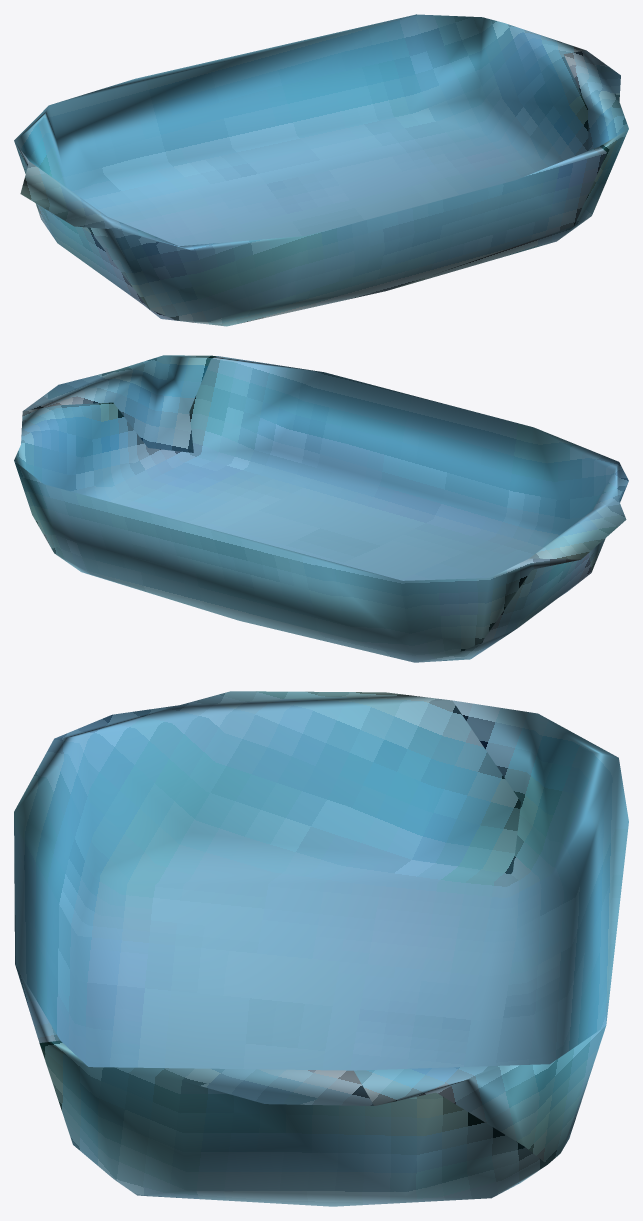
Rendered from Corningware_CW_by_Corningware_3qt_Oblong_Casserole_Dish_Blue-low.glb.
The picture shows the model from 3 angles, top to bottom: view 1: azimuth 30°, elevation 25°; view 2: azimuth 150°, elevation 25°; view 3: azimuth 270°, elevation 25°; orthographic projection. The views are drawn at different scales.
Parts seen in each view (by area): view 1: Corningware_CW_by_Corningware_3qt_Oblong_Casserole_Dish_Blue; view 2: Corningware_CW_by_Corningware_3qt_Oblong_Casserole_Dish_Blue; view 3: Corningware_CW_by_Corningware_3qt_Oblong_Casserole_Dish_Blue.
Boxes of the visible parts, bbox=[...] form: Corningware_CW_by_Corningware_3qt_Oblong_Casserole_Dish_Blue: bbox=[14, 14, 628, 326]; Corningware_CW_by_Corningware_3qt_Oblong_Casserole_Dish_Blue: bbox=[14, 355, 628, 662]; Corningware_CW_by_Corningware_3qt_Oblong_Casserole_Dish_Blue: bbox=[14, 691, 628, 1206].
Size of the model in its own units: 0.3647 by 0.0713 by 0.2217.
1 material, 1 textured.
